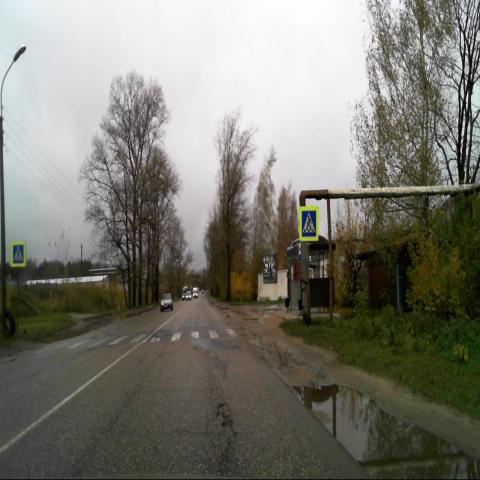5_19_1: (299, 206, 320, 244), (12, 242, 26, 267)
